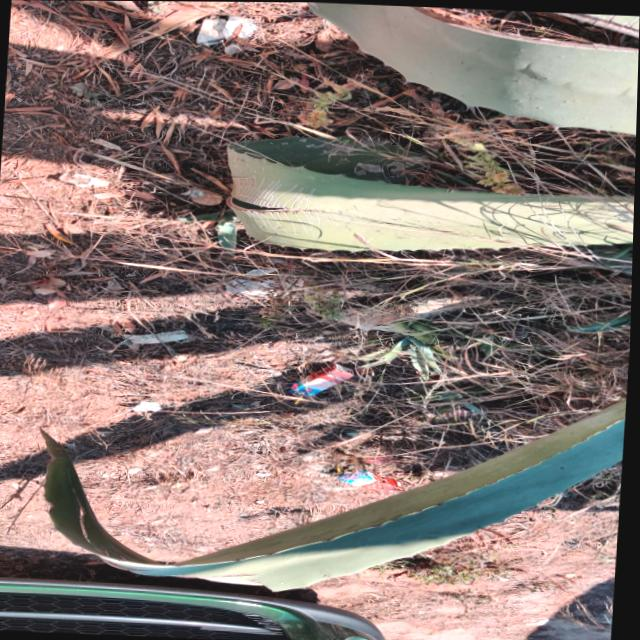Cardboard: (326, 456, 414, 498), (288, 360, 364, 399)
Paper: (123, 323, 203, 352), (222, 272, 292, 300), (128, 398, 173, 415)
